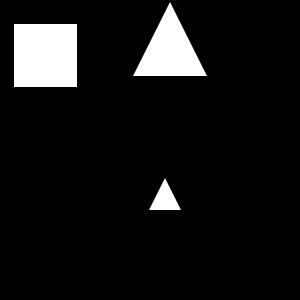circle: (14, 24, 77, 87)
triangle: (133, 2, 207, 76), (149, 178, 181, 210)
